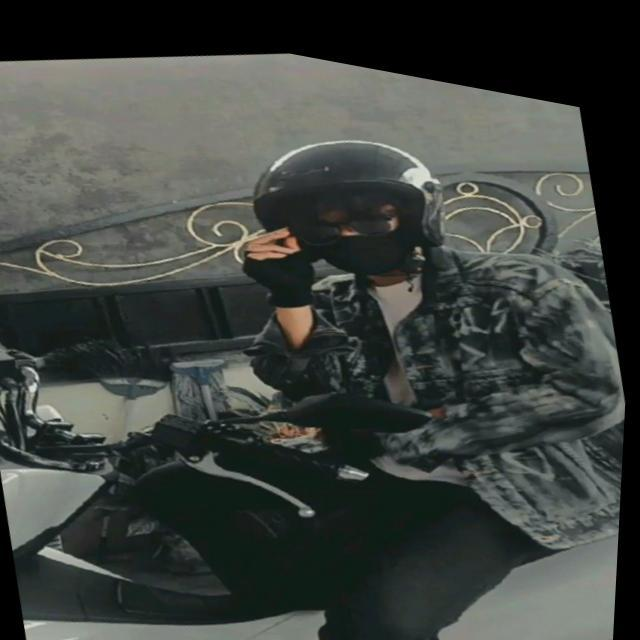Helmet: (243, 130, 456, 284)
